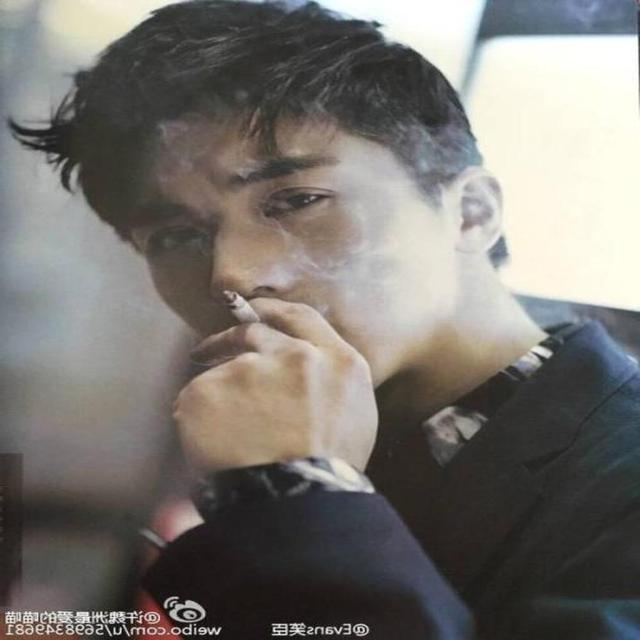smoking: (75, 22, 450, 430)
